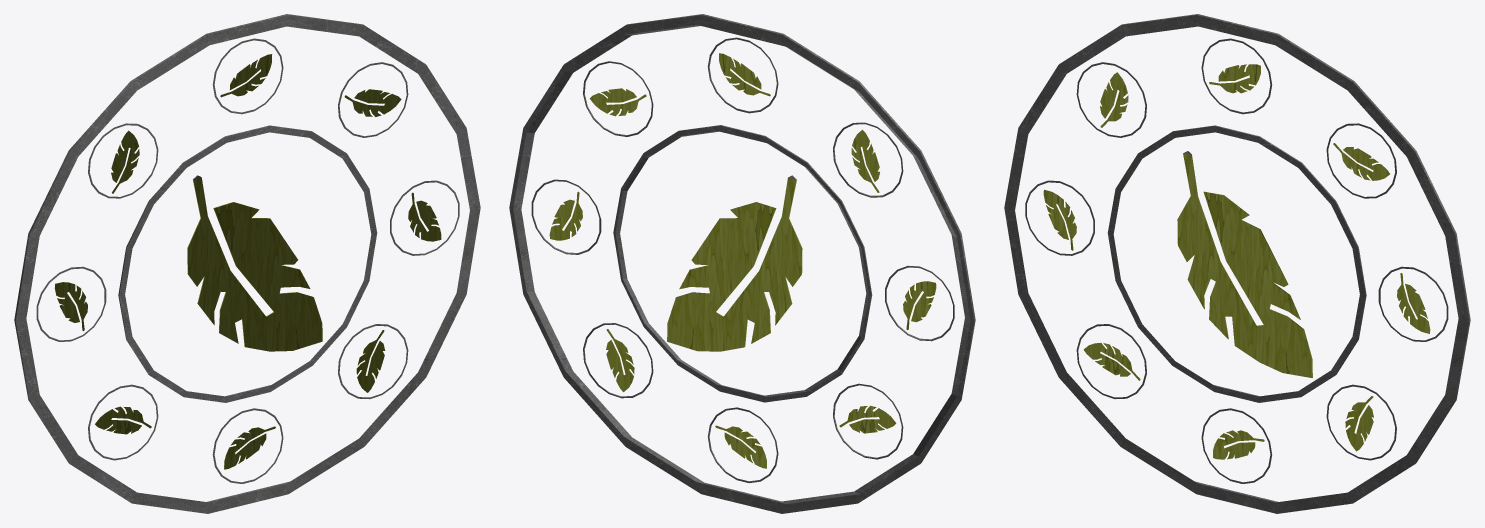
Rendered from texture_tree_bot.fbx.
The picture shows the model from 3 angles, left to right: view 1: azimuth 30°, elevation 25°; view 2: azimuth 150°, elevation 25°; view 3: azimuth 330°, elevation 25°; orthographic projection.
Visible parts, largest first — view 1: Cylinder003; view 2: Cylinder003; view 3: Cylinder003.
Boxes of the visible parts, x1,y1,x2,y2 form: Cylinder003: [14, 14, 480, 513]; Cylinder003: [509, 14, 975, 513]; Cylinder003: [1004, 14, 1470, 513].
Size of the model in its own units: 128 by 126 by 0.6909.
1 material, 1 textured.
